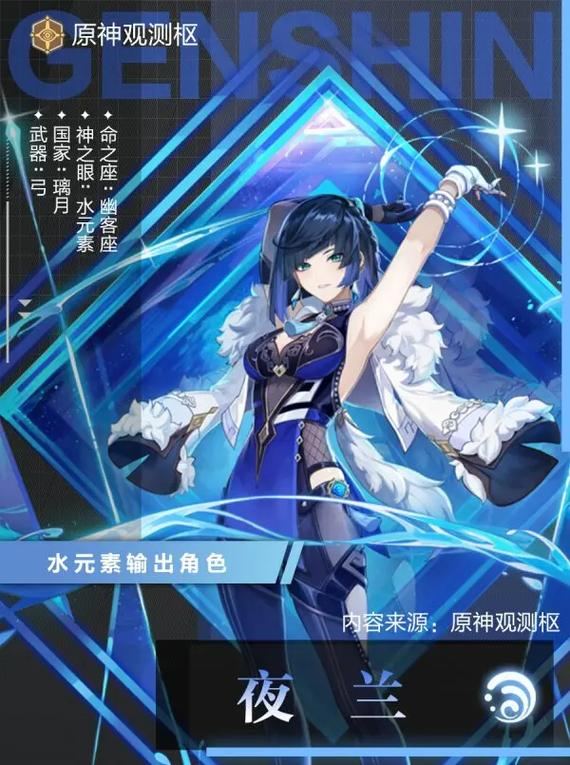夜兰: (202, 156, 508, 765)
